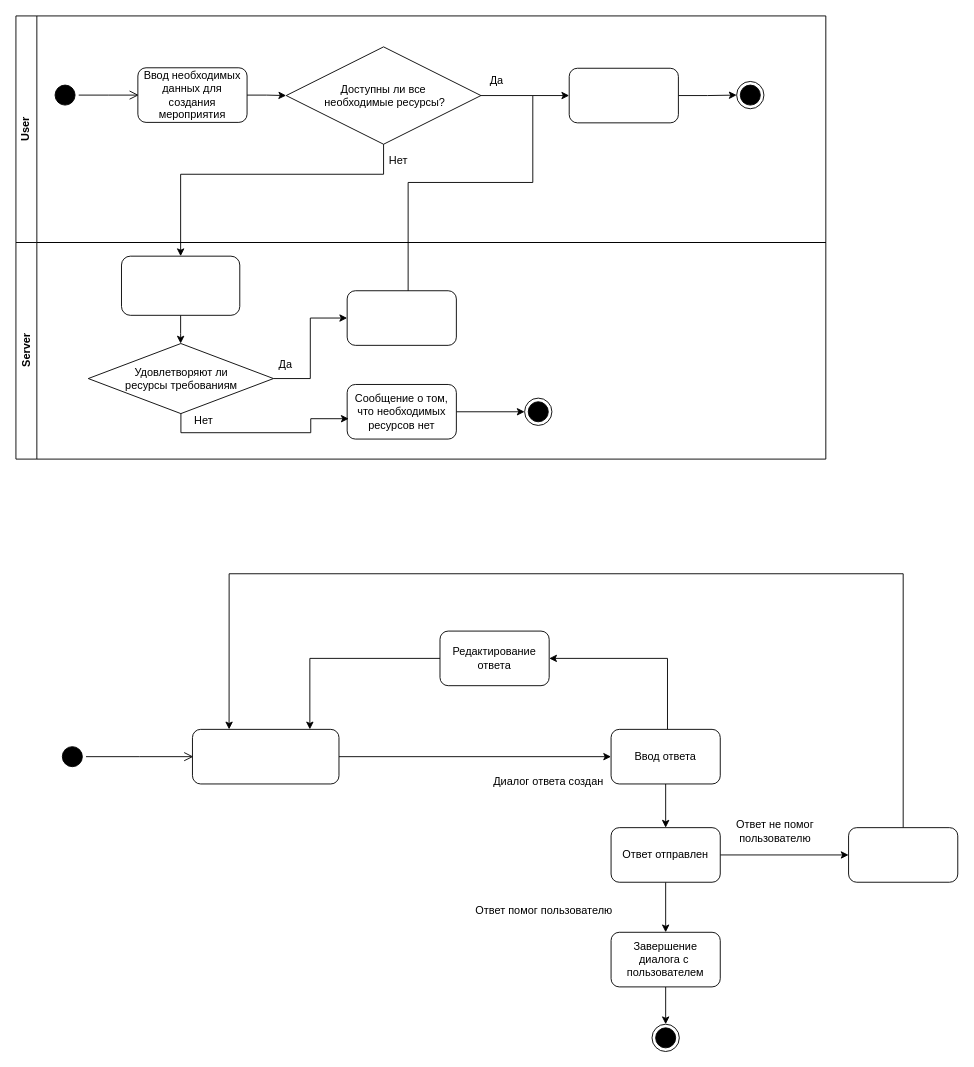
The diagram is 974 pixels wide and 1067 high, and some of its shapes have lost their labels. Each missing label, with the centre of its shape:
"Ввод нового ответа" belongs at (903,854).
"Вызов метода для поиска ресурсов, похожих на заданные требования" belongs at (180,285).
"Отправка соответствующей информации" belongs at (401,317).
"Переход на страницу ответов на вопросы пользователей" belongs at (265,756).
"Создание мероприятия и выдача электронных билетов" belongs at (623,95).
